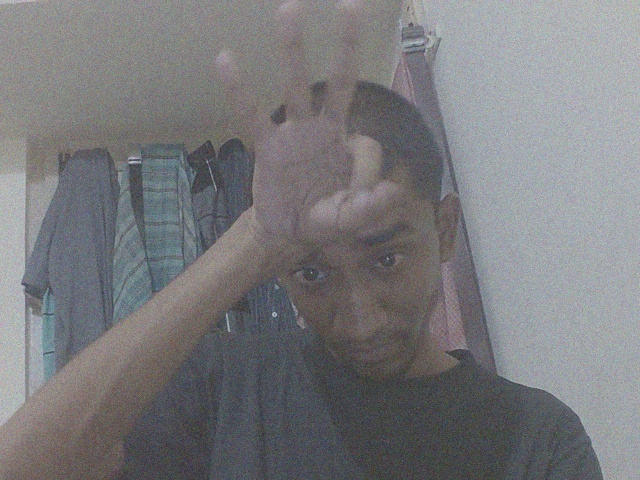hand: (208, 2, 404, 257)
